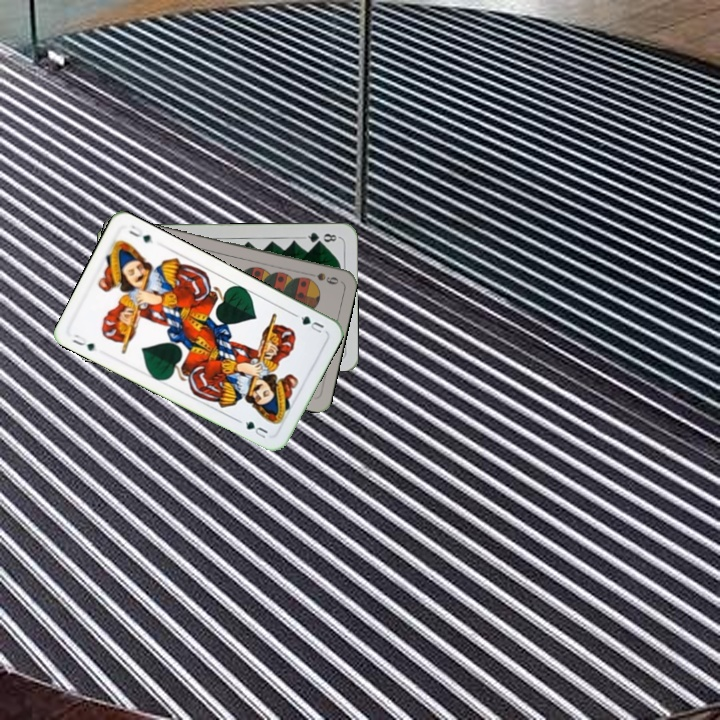G8: (301, 228, 341, 246)
GU: (290, 310, 326, 337), (68, 330, 97, 353)
S9: (301, 268, 341, 287)
